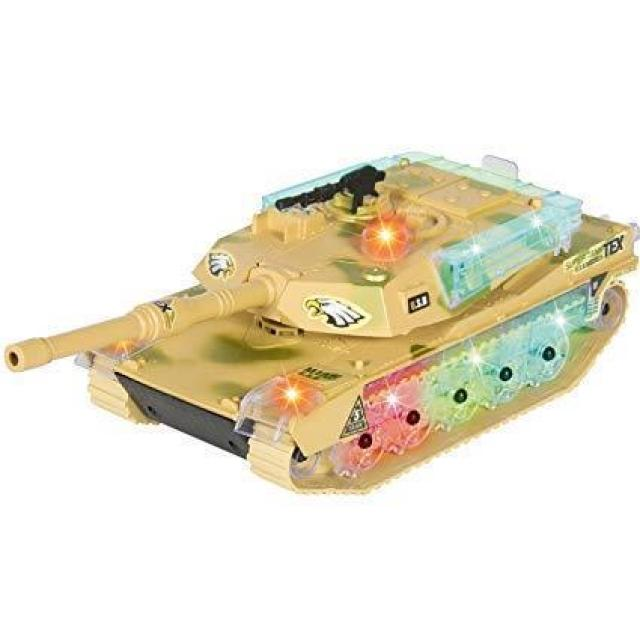Tanks: (11, 143, 569, 480)
